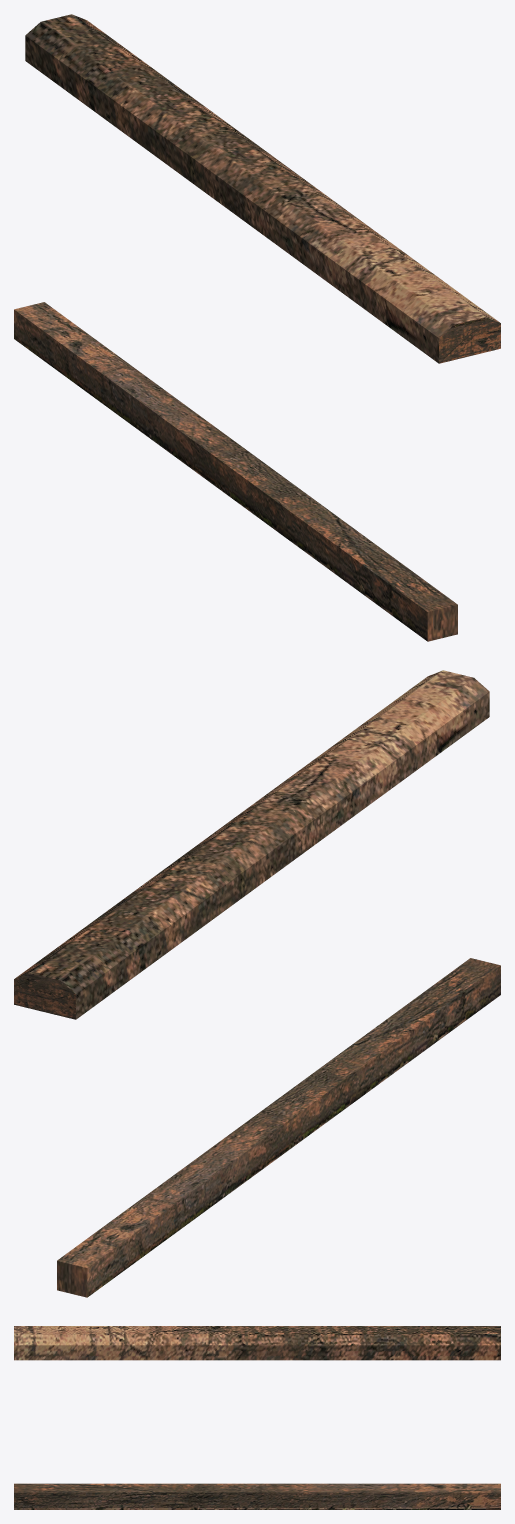
File: factory_stairs_06_2m.DAE
3 views of the same model, one above another, from view 1: azimuth 30°, elevation 25°; view 2: azimuth 150°, elevation 25°; view 3: azimuth 270°, elevation 25° (orthographic). The views are drawn at different scales.
Visible parts, largest first — view 1: Box339; view 2: Box339; view 3: Box339.
Part boxes in pixels (x1=…): Box339: x1=14, y1=14, x2=500, y2=641; Box339: x1=14, y1=670, x2=500, y2=1297; Box339: x1=14, y1=1326, x2=500, y2=1509.
Bounding box in the file's own units: 0.2045 × 0.8283 × 2.
